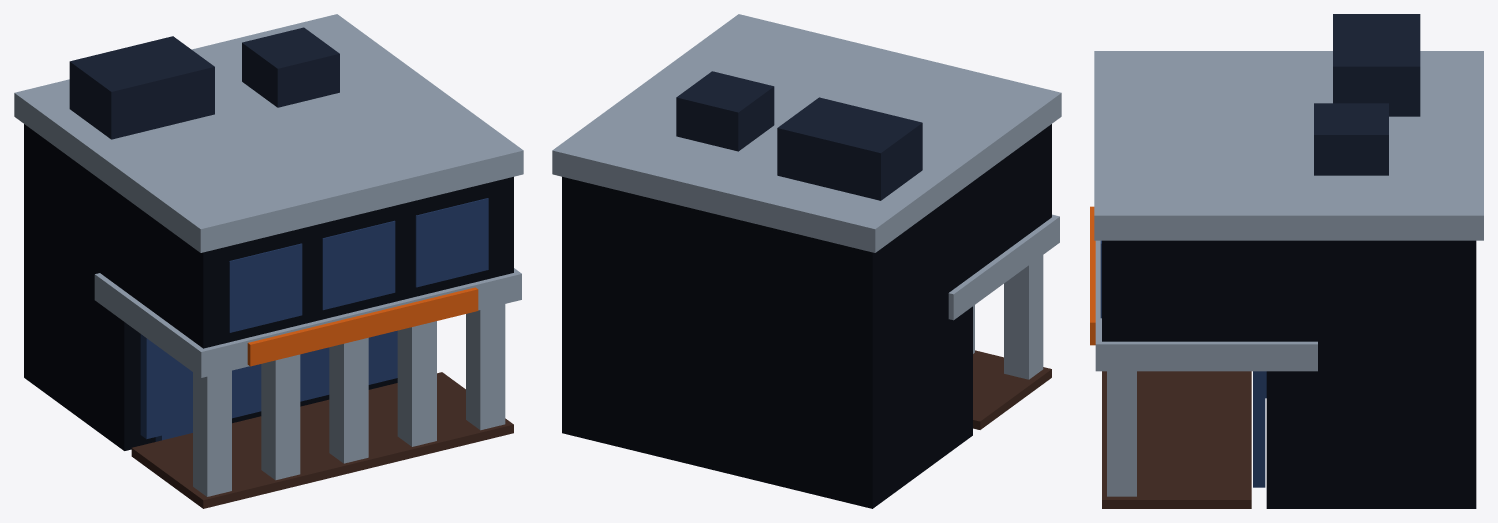
Rendered from shop3.obj.
3 views of the same model, side by side, from view 1: azimuth 30°, elevation 25°; view 2: azimuth 150°, elevation 25°; view 3: azimuth 270°, elevation 25° (orthographic). The views are drawn at different scales.
Parts seen in each view (by area): view 1: parapet, back-block, columns, upper-floor, roof-plant, upper-glazing, arcade-floor, arcade-beam, shopfront, sign, door; view 2: back-block, parapet, roof-plant, upper-floor, columns, arcade-beam, arcade-floor; view 3: parapet, back-block, upper-floor, arcade-floor, roof-plant, arcade-beam, columns, shopfront, sign.
Part boxes in pixels (bbox=[...]): parapet: bbox=[14, 14, 523, 252]; back-block: bbox=[24, 124, 397, 450]; columns: bbox=[193, 304, 505, 496]; upper-floor: bbox=[103, 176, 513, 348]; roof-plant: bbox=[69, 27, 339, 139]; upper-glazing: bbox=[229, 198, 488, 332]; arcade-floor: bbox=[131, 372, 513, 508]; arcade-beam: bbox=[94, 268, 521, 377]; shopfront: bbox=[140, 330, 397, 439]; sign: bbox=[247, 287, 478, 366]; door: bbox=[155, 349, 192, 441]; back-block: bbox=[562, 176, 972, 508]; parapet: bbox=[552, 14, 1061, 252]; roof-plant: bbox=[676, 71, 922, 200]; upper-floor: bbox=[951, 124, 1051, 290]; columns: bbox=[973, 255, 1043, 379]; arcade-beam: bbox=[948, 214, 1059, 320]; arcade-floor: bbox=[973, 350, 1051, 429]; parapet: bbox=[1094, 51, 1483, 240]; back-block: bbox=[1266, 240, 1476, 508]; upper-floor: bbox=[1102, 240, 1311, 341]; arcade-floor: bbox=[1102, 371, 1251, 508]; roof-plant: bbox=[1314, 14, 1420, 175]; arcade-beam: bbox=[1095, 240, 1317, 371]; columns: bbox=[1107, 371, 1136, 496]; shopfront: bbox=[1253, 371, 1265, 487]; sign: bbox=[1090, 206, 1095, 345].
Size of the model in its own units: 3.12 by 3.06 by 3.15.
